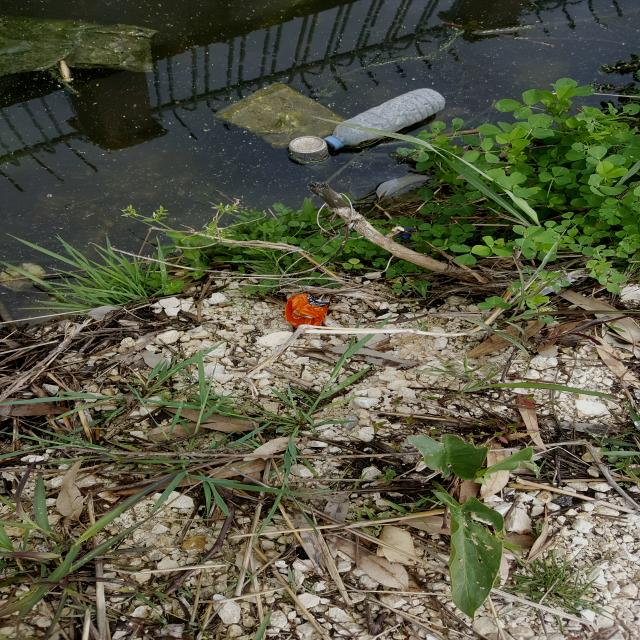Clear plastic bottle: (324, 88, 445, 151)
Drink can: (288, 136, 329, 161)
Other plastic: (1, 15, 160, 77), (213, 82, 345, 149), (284, 293, 330, 333)
Other plastic bottle: (395, 228, 417, 239)
Plastic bottle cap: (324, 137, 340, 151)
